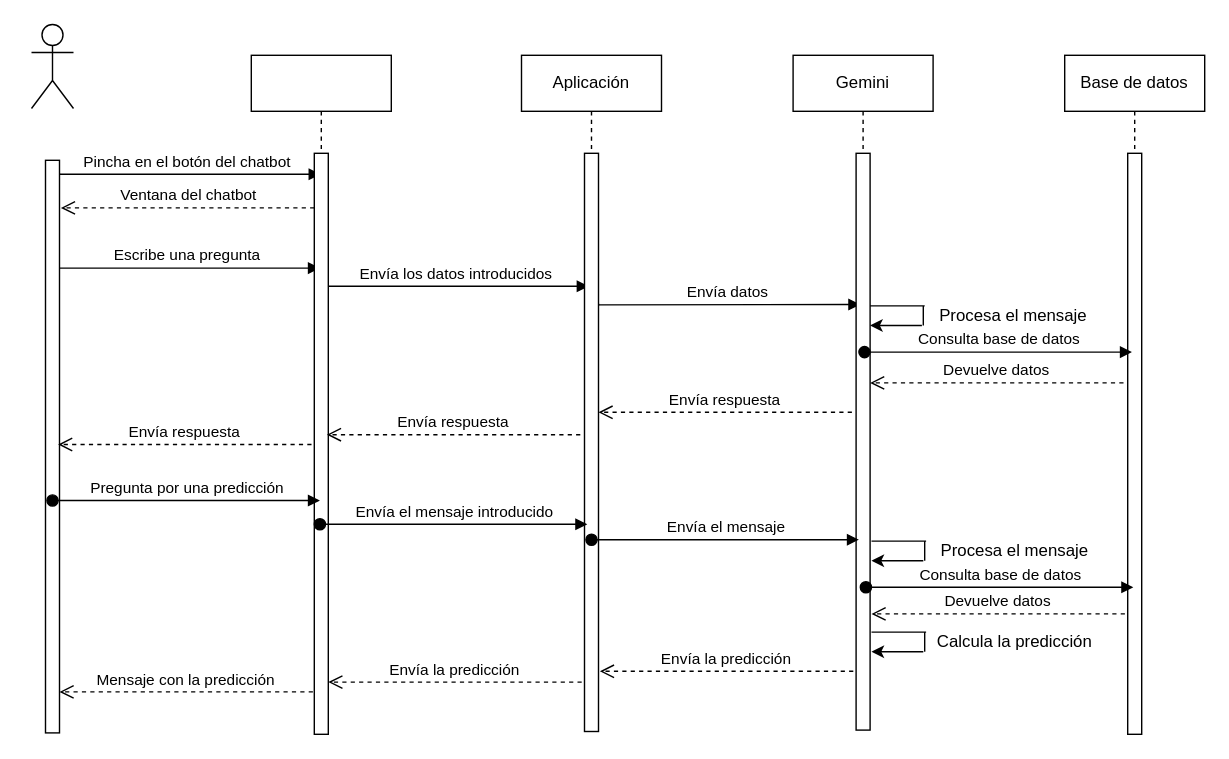
Some shapes in this 1229 by 759 pixel diagram are drawn without their labels. Each missing label, with the box of its shape:
Interfaz: (250, 54, 391, 475)
Usuario: (30, 23, 74, 108)
